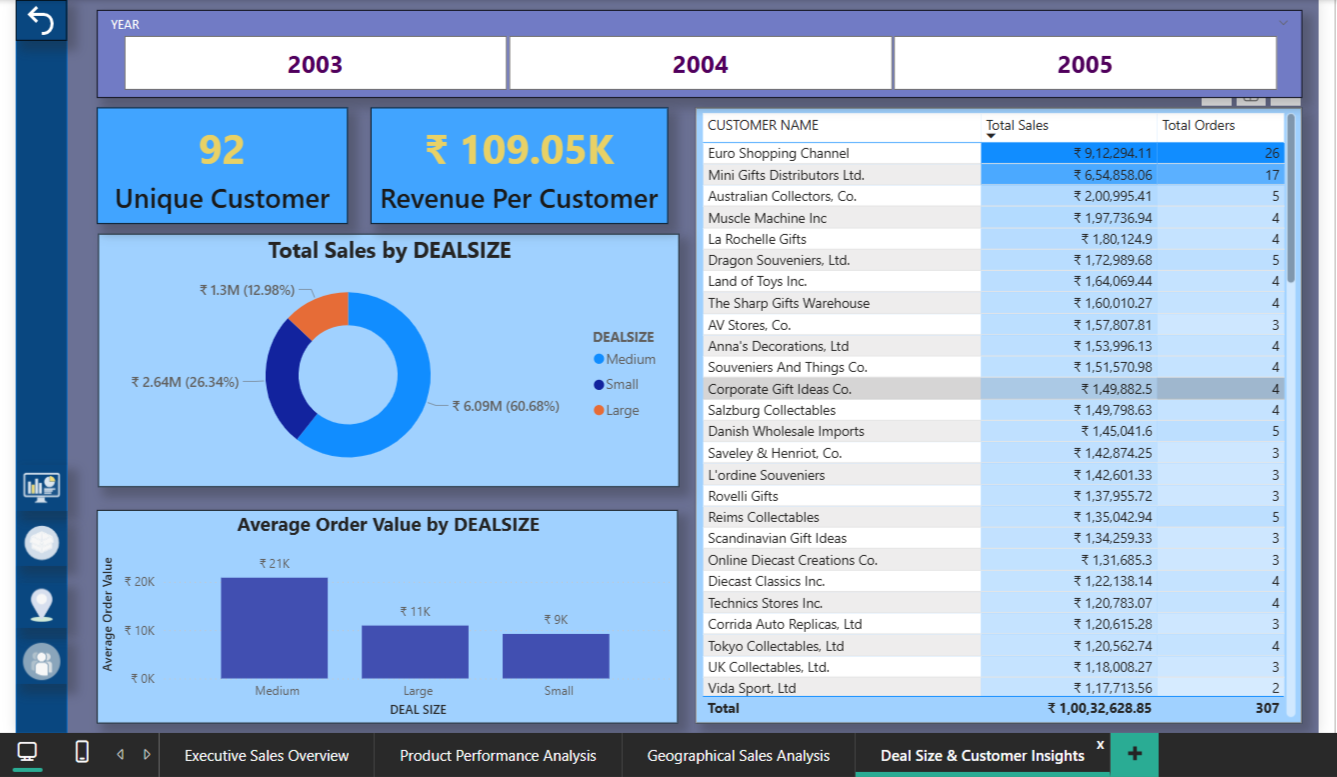

This screenshot's page, from the dashboard's own definition file:
{"tool":"powerbi","page":{"name":"Deal Size & Customer Insights","canvas":[1280,720],"ordinal":3},"visuals":[{"type":"columnChart","fields":{"Category":["Sales Data.DEALSIZE"],"Y":["Table Measures.Average Order Value"]},"box":[79.8,500.6,570.6,209.8],"z":0},{"type":"tableEx","fields":{"Values":["Sales Data.CUSTOMER NAME","Table Measures.Total Sales","Table Measures.Total Orders"]},"box":[667.5,105.5,595.1,604.9],"z":1000},{"type":"shape","box":[0,0,51,720.3],"z":2000},{"type":"actionButton","box":[0,456.5,51,44.8],"z":3000},{"type":"actionButton","box":[0,510.7,50.5,44.7],"z":4000},{"type":"actionButton","box":[0,571.3,50.5,44.7],"z":5000},{"type":"actionButton","box":[0,627.6,50.5,44.7],"z":6000},{"type":"slicer","fields":{"Values":["Sales Data.YEAR_ID"]},"box":[79.4,10.1,1183.1,86.6],"z":7000},{"type":"donutChart","fields":{"Category":["Sales Data.DEALSIZE"],"Y":["Table Measures.Total Sales"]},"box":[81,229.4,570.6,249.1],"z":8000},{"type":"actionButton","box":[0,0,50.5,40.4],"z":9000},{"type":"card","fields":{"Values":["Table Measures.Unique Customer"]},"box":[79.8,105.5,246.6,114.1],"z":10000},{"type":"card","fields":{"Values":["Table Measures.Revenue Per Customer"]},"box":[348.5,105.5,292,114.1],"z":11000}]}

Visuals, with their boxes on the page's 1280x720 design canvas (x1, y1, x2, y2). These are canvas units, not pixel positions in the 1337x777 screenshot, which may show the page scaled, cropped or inside an application window:
columnChart - Sales Data.DEALSIZE x Table Measures.Average Order Value: pyautogui.locateOnScreen(80, 501, 650, 710)
tableEx - Sales Data.CUSTOMER NAME x Table Measures.Total Sales: pyautogui.locateOnScreen(668, 106, 1263, 710)
shape: pyautogui.locateOnScreen(0, 0, 51, 720)
actionButton: pyautogui.locateOnScreen(0, 456, 51, 501)
actionButton: pyautogui.locateOnScreen(0, 511, 50, 555)
actionButton: pyautogui.locateOnScreen(0, 571, 50, 616)
actionButton: pyautogui.locateOnScreen(0, 628, 50, 672)
slicer - Sales Data.YEAR_ID: pyautogui.locateOnScreen(79, 10, 1262, 97)
donutChart - Sales Data.DEALSIZE x Table Measures.Total Sales: pyautogui.locateOnScreen(81, 229, 652, 478)
actionButton: pyautogui.locateOnScreen(0, 0, 50, 40)
card - Table Measures.Unique Customer: pyautogui.locateOnScreen(80, 106, 326, 220)
card - Table Measures.Revenue Per Customer: pyautogui.locateOnScreen(348, 106, 640, 220)
